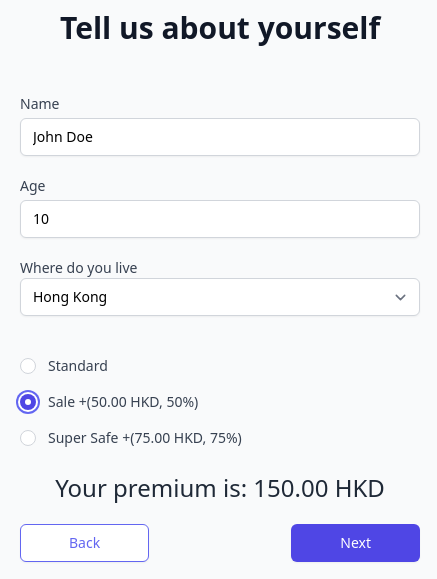
Test case: Start Page Spec › Complete form inputs › HK premium should be 175 for 10yrs old - safe
Click the radio button labelled "Super Safe +(75.00 HKD, 75%)" at [28, 438], box [20,430,36,446]
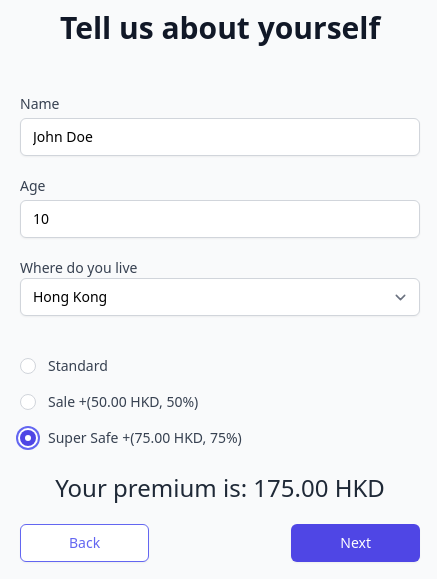
Now the heading "Your premium is: 175.00 HKD" is shown, box [55,471,385,504]
